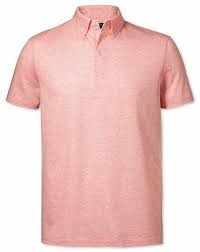S_polo shirt: (9, 4, 182, 242)
